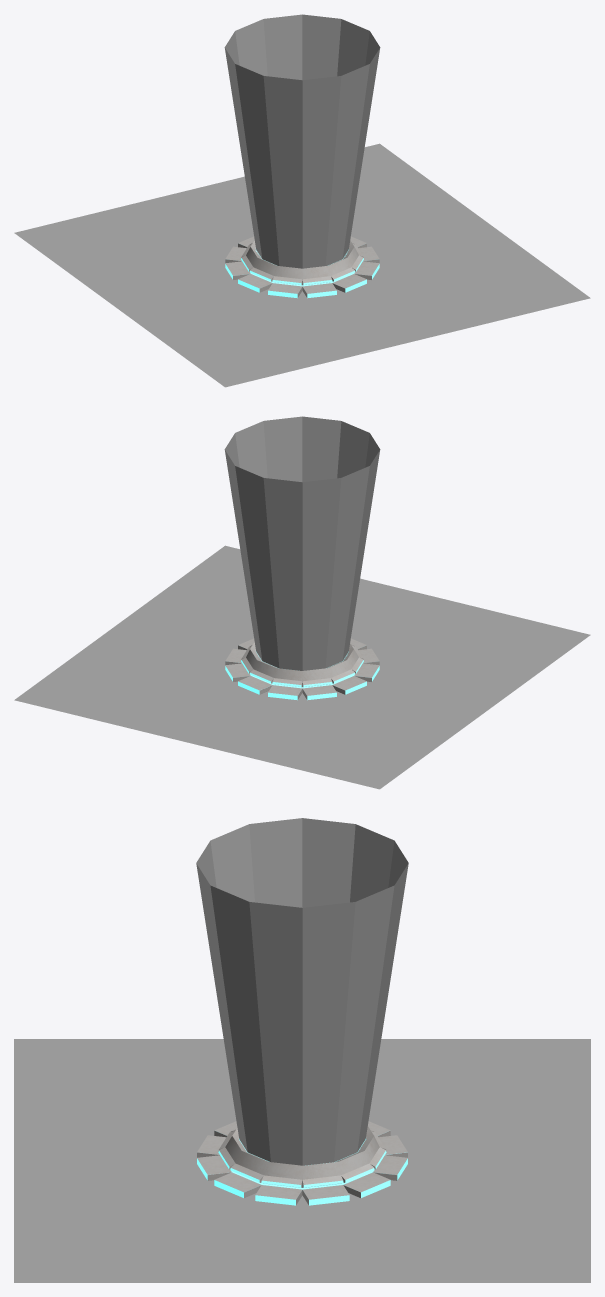
File: SPW0110012.fbx
3 renders of one model, top to bottom at view 1: azimuth 30°, elevation 25°; view 2: azimuth 150°, elevation 25°; view 3: azimuth 270°, elevation 25°, orthographic. The views are drawn at different scales.
Parts seen in each view (by area): view 1: smSPW0110012; view 2: smSPW0110012; view 3: smSPW0110012.
Boxes of the visible parts, x1,y1,x2,y2 form: smSPW0110012: (14,14,590,387); smSPW0110012: (14,416,590,789); smSPW0110012: (14,818,590,1282).
Bounding box in the file's own units: 497 × 284 × 497.
2 materials, 1 textured.
